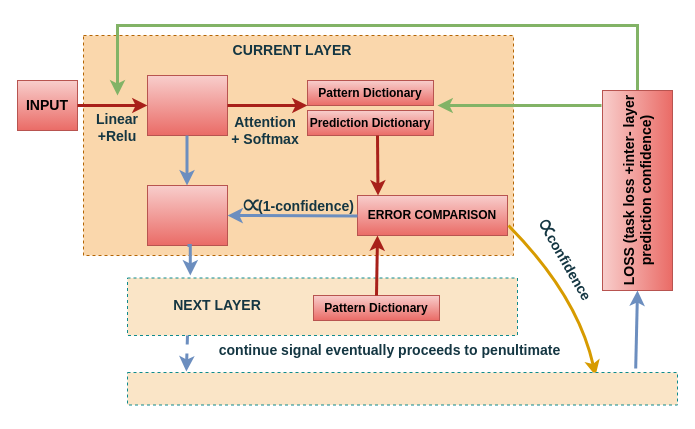
This 695x429 diagram has some shape labels left out. Here are the shapes that lost their labels. From the top down, the box of each, then its label:
(146, 74, 228, 136): HIDDEN STATE
(146, 184, 228, 246): CONTINUE SIGNAL
(126, 372, 678, 405): PENULTIMATE LAYER
